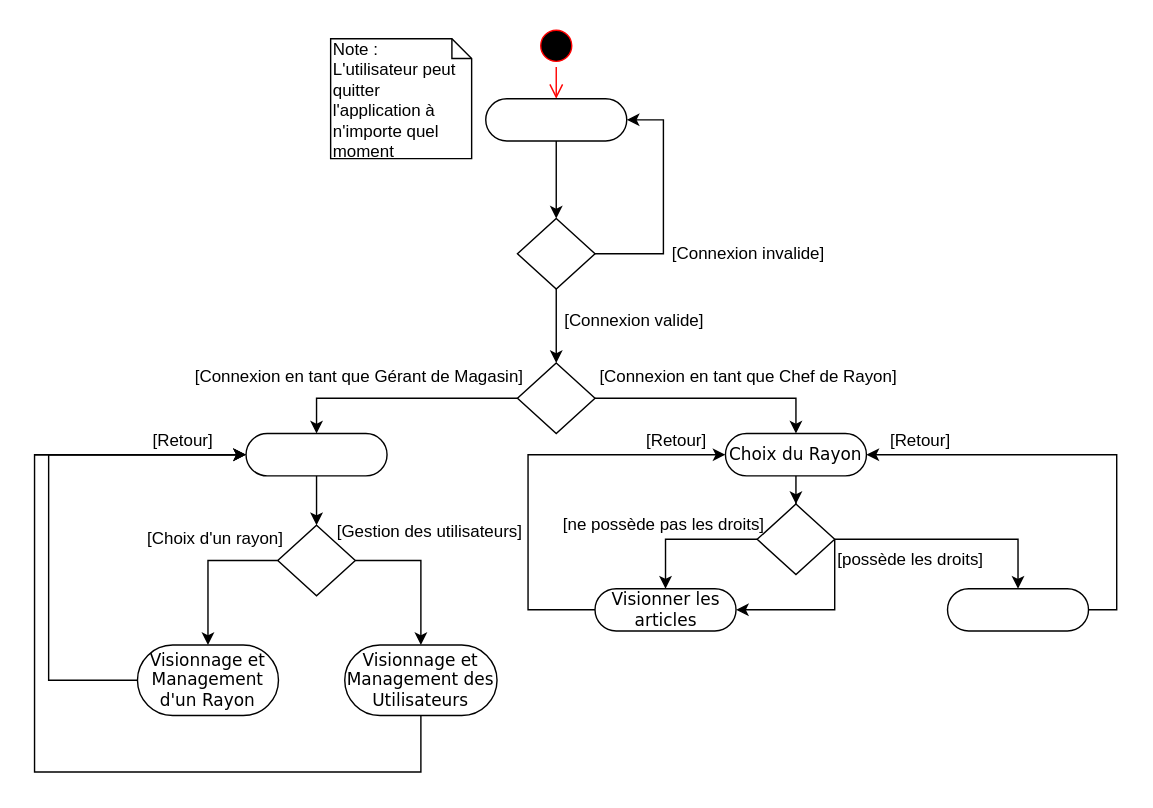
Image size: 1153x808. Some labels were removed from this diagram. The shapes that lost their labels are listed below. From the top down, each one's centre as x and y in pixels, then its label:
At pixel 555 119: "Connexion à l'application".
At pixel 316 454: "Choix de l'action".
At pixel 1017 609: "Management des articles".
